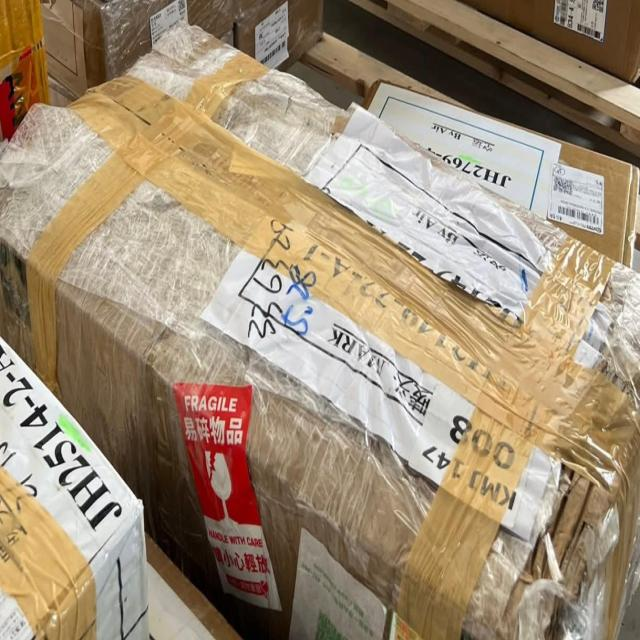carton_box: (1, 20, 640, 640)
export_mark_label: (222, 117, 626, 510)
fragile_label: (175, 380, 268, 590)
